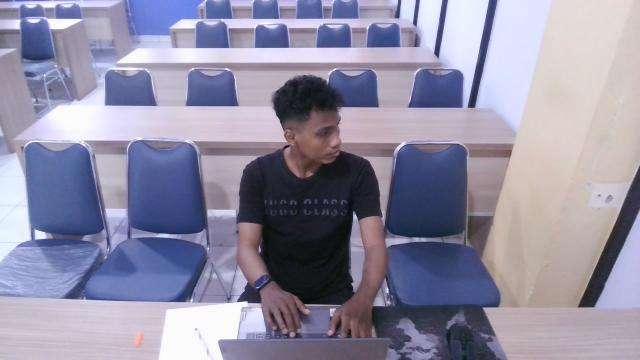Looking_Around: (224, 68, 397, 235)
